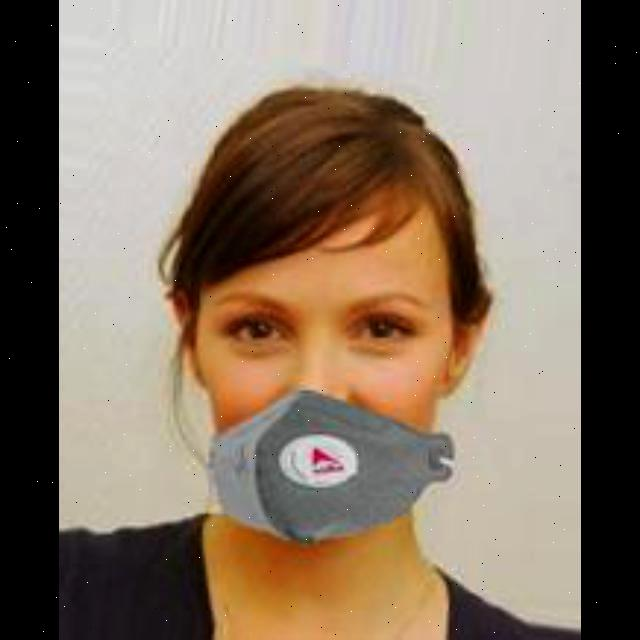suspicion: (148, 93, 486, 524)
